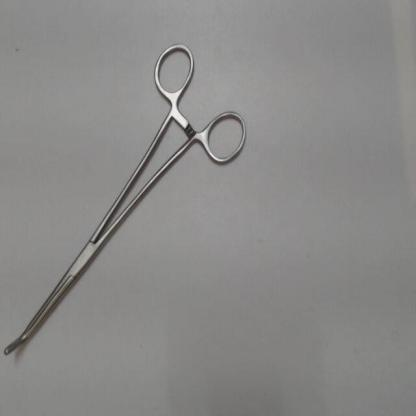Lahey Forceps: (1, 36, 257, 366)
